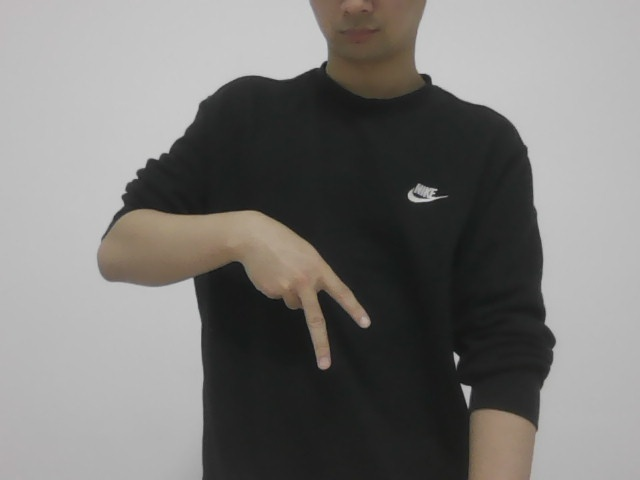walk: (233, 198, 376, 380)
